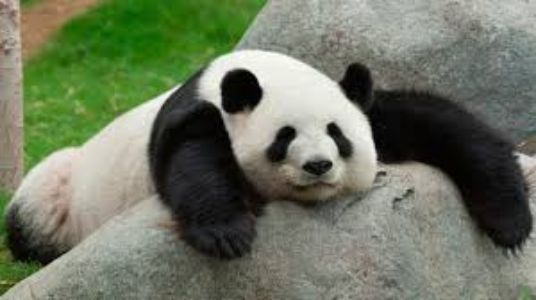bear: (22, 48, 525, 274)
